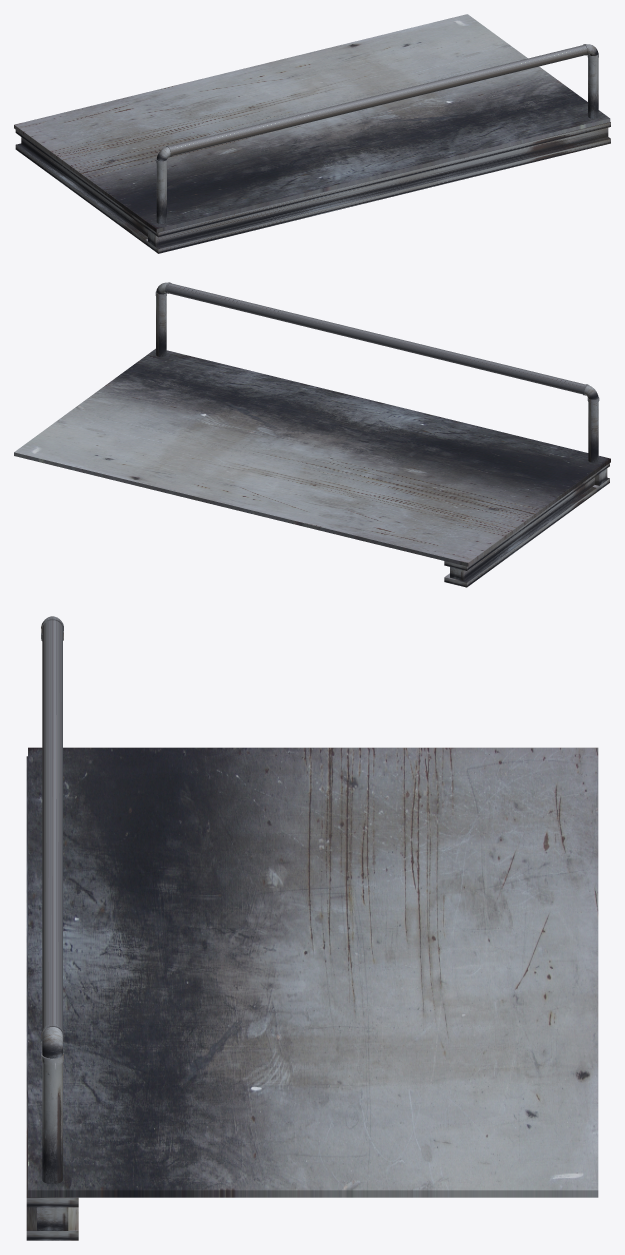
Rendered from catwalk_middle_fix.FBX.
The picture shows the model from 3 angles, top to bottom: view 1: azimuth 30°, elevation 25°; view 2: azimuth 150°, elevation 25°; view 3: azimuth 270°, elevation 25°; orthographic projection. The views are drawn at different scales.
Parts seen in each view (by area): view 1: Plane001, Cylinder005, Box002, Box001, Box003, Box006, Box005, Cylinder006, Box004, Cylinder007; view 2: Plane001, Cylinder005, Box006, Box005, Cylinder006, Box004, Cylinder007; view 3: Plane001, Cylinder005, Cylinder002, Box003, Box001.
Part boxes in pixels (<box>): Plane001: <box>14,14,610,232</box>; Cylinder005: <box>166,44,598,157</box>; Box002: <box>148,127,608,246</box>; Box001: <box>145,137,610,253</box>; Box003: <box>145,122,610,237</box>; Box006: <box>15,143,147,243</box>; Box005: <box>21,137,147,236</box>; Cylinder006: <box>156,158,167,223</box>; Box004: <box>15,130,145,227</box>; Cylinder007: <box>587,53,598,118</box>; Plane001: <box>14,348,610,566</box>; Cylinder005: <box>156,282,589,395</box>; Box006: <box>444,486,596,587</box>; Box005: <box>450,477,594,580</box>; Cylinder006: <box>587,396,599,462</box>; Box004: <box>444,473,596,570</box>; Cylinder007: <box>155,291,166,356</box>; Plane001: <box>28,747,598,1197</box>; Cylinder005: <box>41,617,63,1058</box>; Cylinder002: <box>42,1056,62,1184</box>; Box003: <box>26,756,78,1207</box>; Box001: <box>26,1207,78,1240</box>.
Bounding box in the file's own units: 10.03 × 2.08 × 5.47.
Materials: 1 (1 with a texture image).
